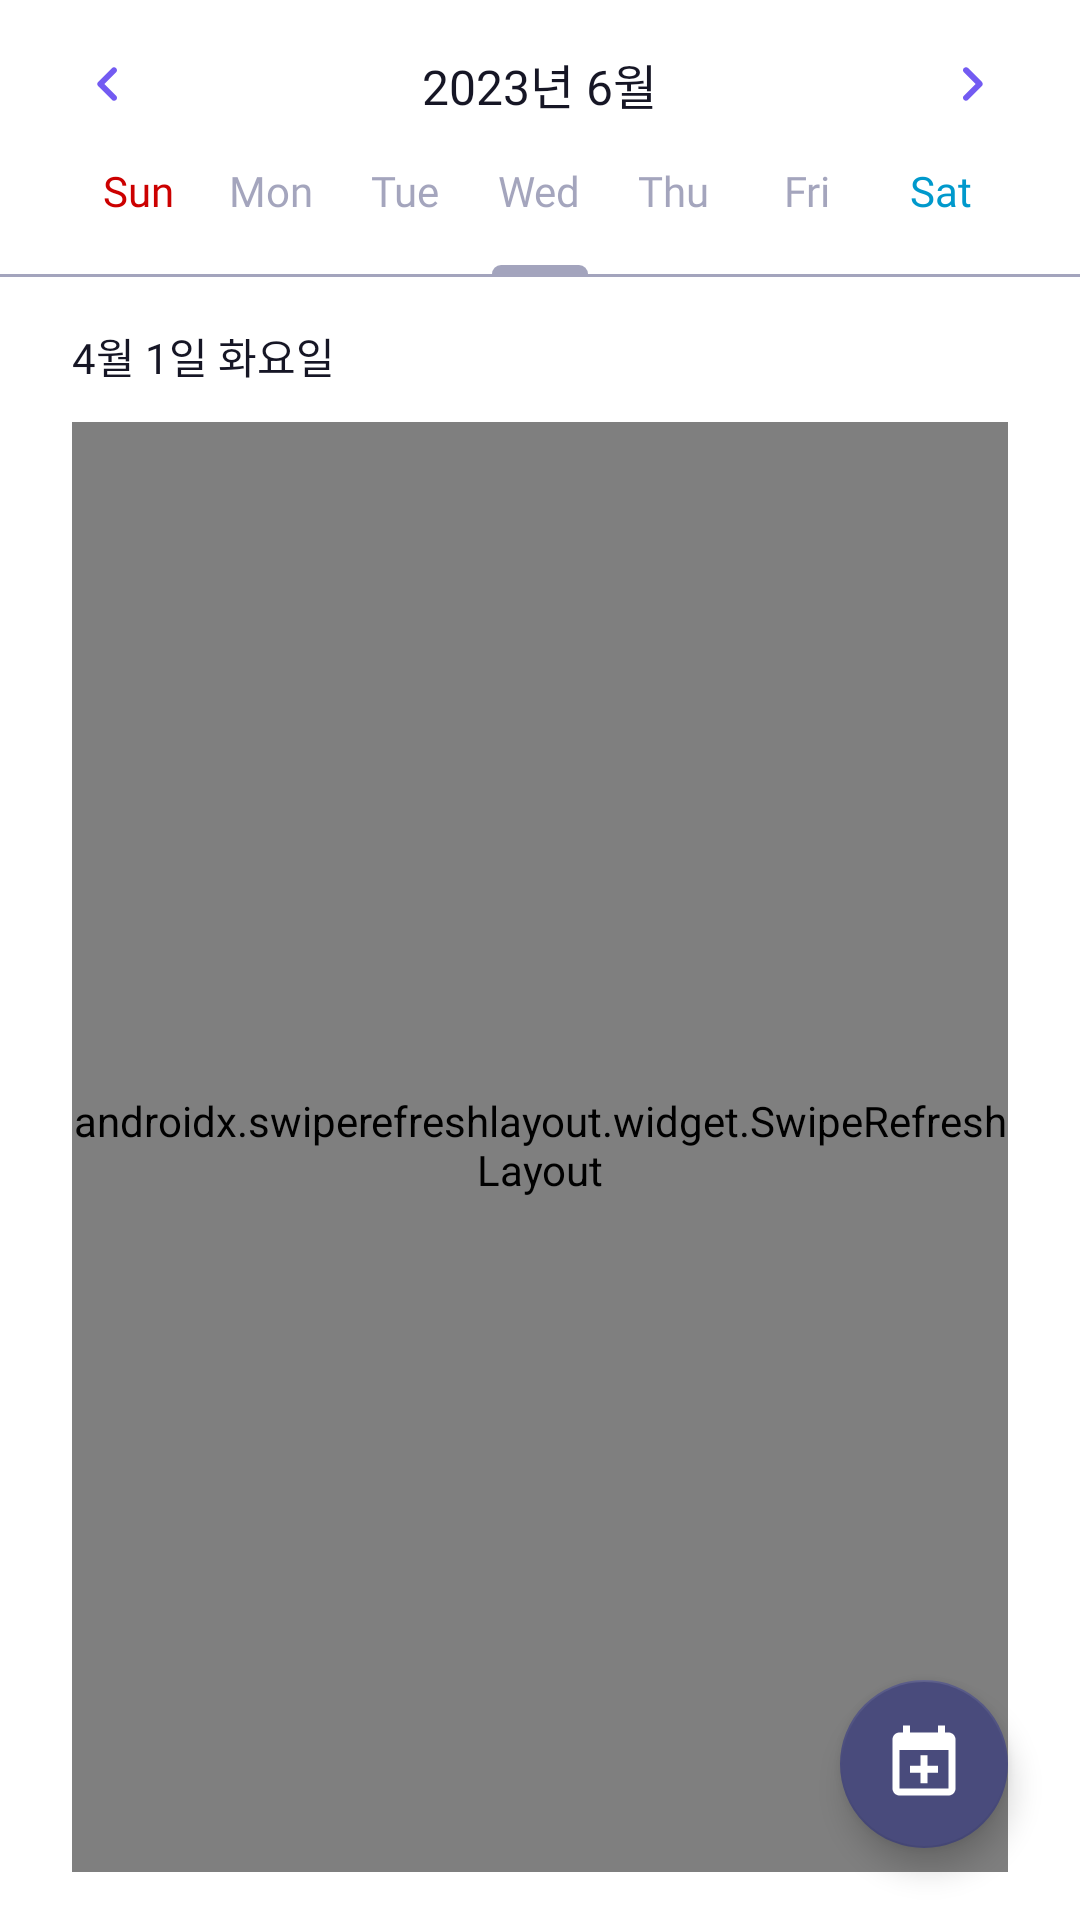

Icons on this 1080px x 1920px Android screen, each with its box as (x1, y1, x2, y2):
next: (963, 67, 983, 101)
prev: (97, 67, 117, 101)
schedule add: (840, 1681, 1008, 1848)
